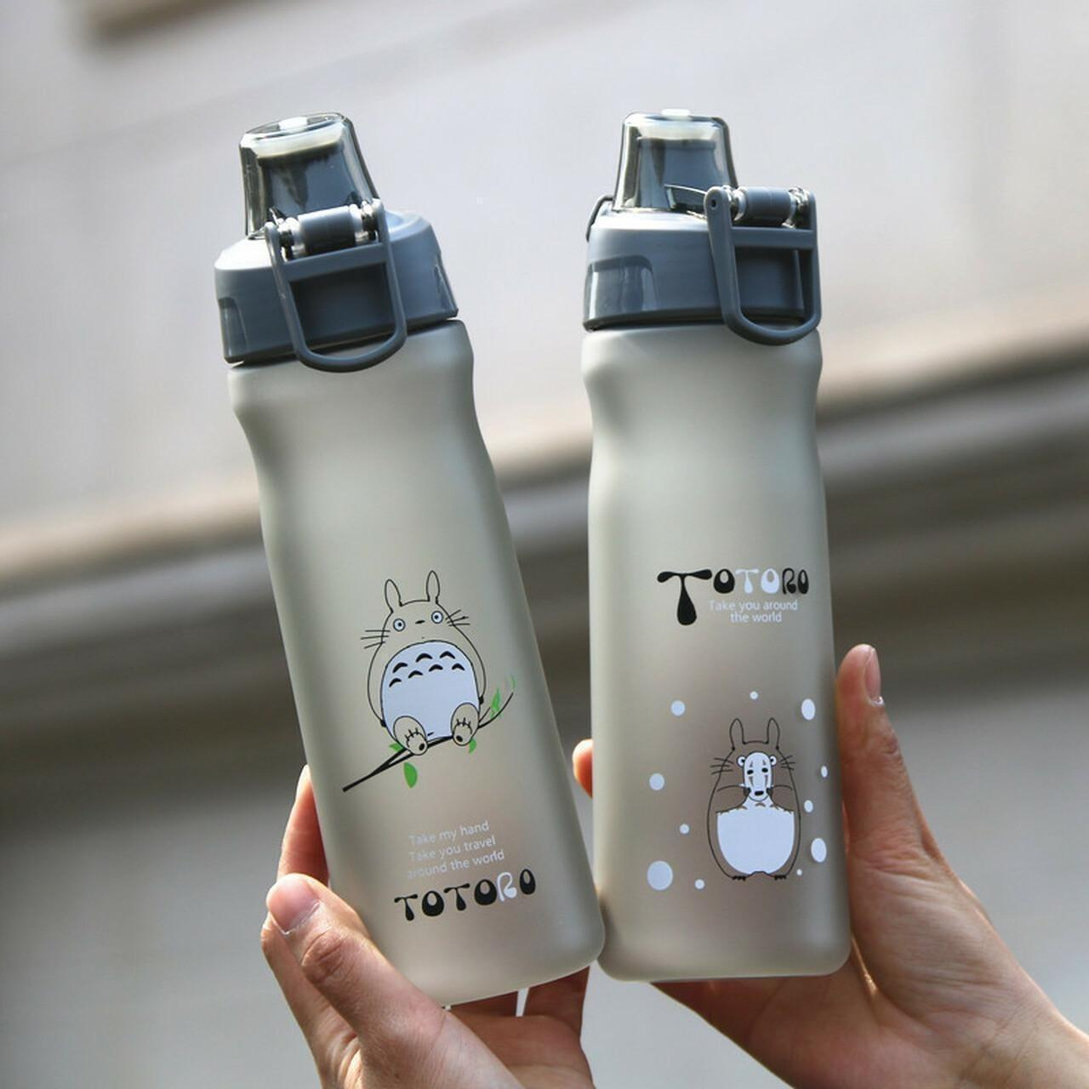gym bottle: (201, 115, 607, 1025), (567, 111, 867, 988)
